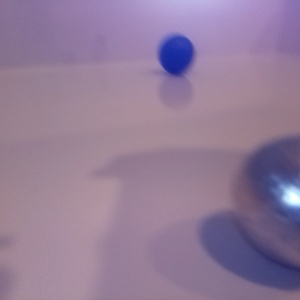alive_ball: (230, 137, 300, 269)
dead_ball: (159, 35, 194, 74)
